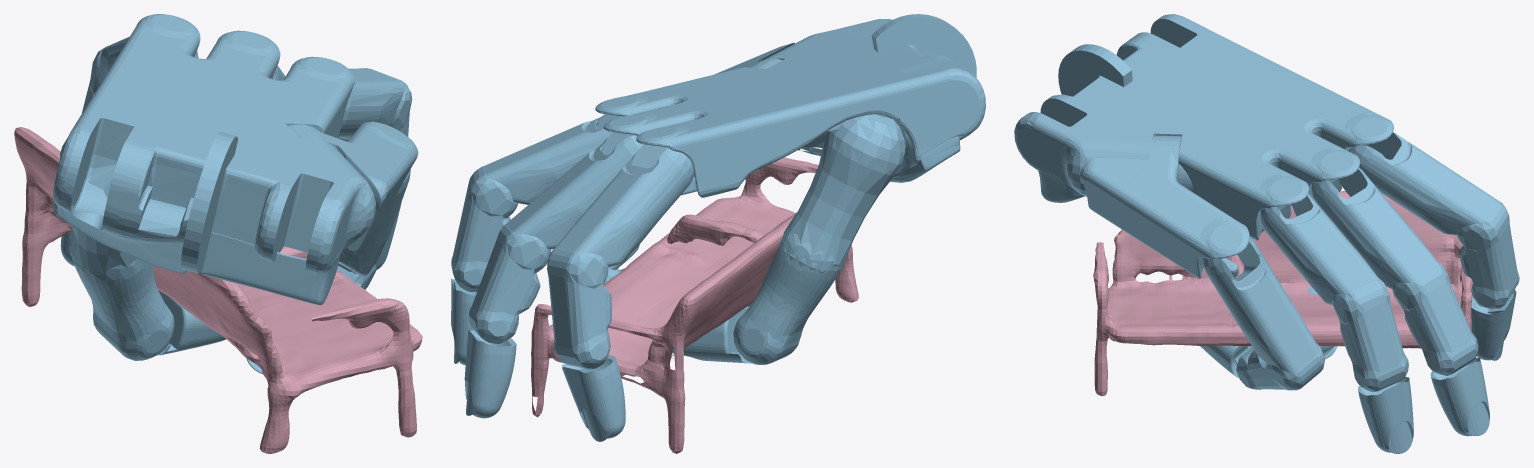
3 views of the same model, side by side, from view 1: azimuth 30°, elevation 25°; view 2: azimuth 150°, elevation 25°; view 3: azimuth 270°, elevation 25° (orthographic). The views are drawn at different scales.
Visible parts, largest first — view 1: hand_isaac_q, world; view 2: hand_isaac_q, world; view 3: hand_isaac_q, world.
Part boxes in pixels (x1,y1,x2,y2): hand_isaac_q: [53, 14, 418, 373]; world: [14, 127, 422, 453]; hand_isaac_q: [451, 14, 985, 441]; world: [531, 157, 858, 453]; hand_isaac_q: [1014, 14, 1519, 453]; world: [1093, 191, 1472, 396].
Size of the model in its own units: 0.1526 by 0.1079 by 0.1745.
